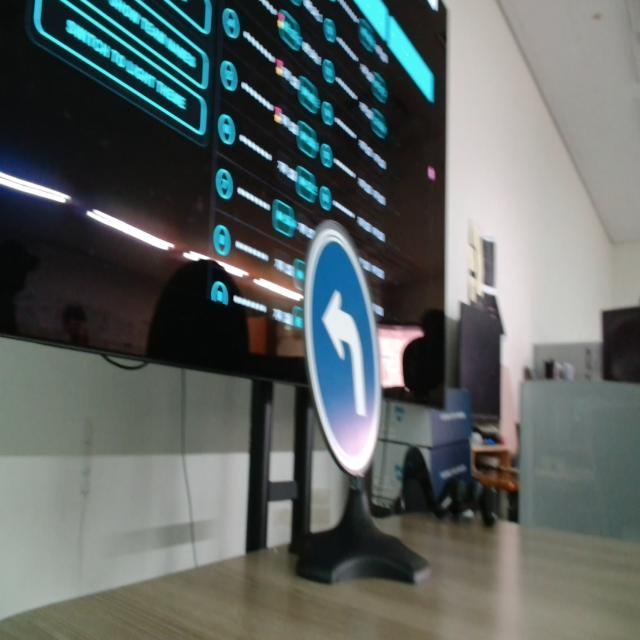left_direction: (302, 215, 385, 476)
